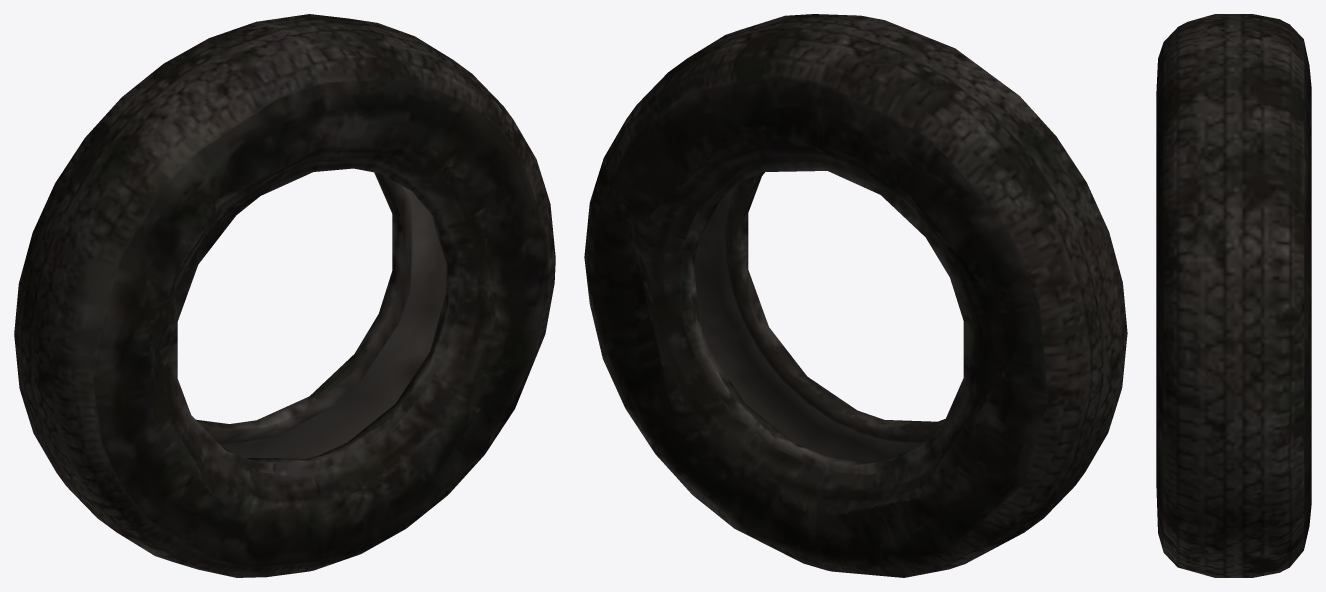
The model's file is old_tyre.glb.
3 renders of one model, left to right at view 1: azimuth 30°, elevation 25°; view 2: azimuth 150°, elevation 25°; view 3: azimuth 270°, elevation 25°, orthographic. The views are drawn at different scales.
Visible parts, largest first — view 1: old_tyre; view 2: old_tyre; view 3: old_tyre.
Part boxes in pixels (x1,y1,x2,y2): old_tyre: [14, 14, 555, 577]; old_tyre: [584, 14, 1127, 577]; old_tyre: [1156, 14, 1311, 577].
Size of the model in its own units: 0.5971 by 0.6 by 0.165.
Materials: 1 (1 with a texture image).
